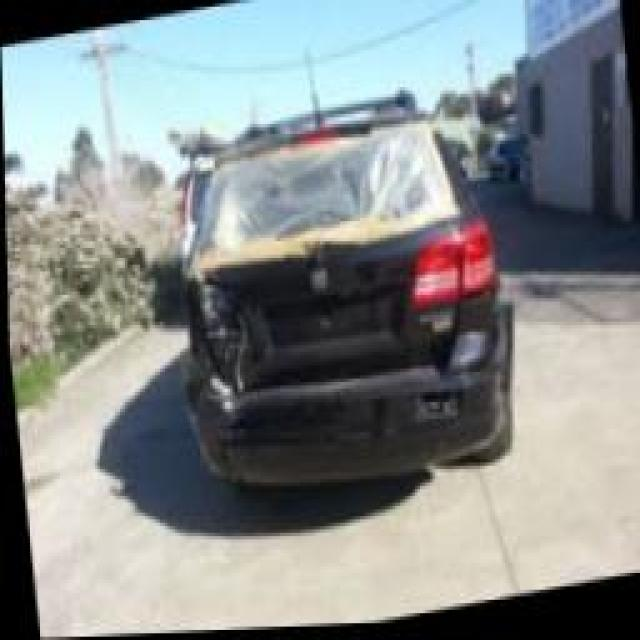replaceable: (179, 270, 269, 500)
